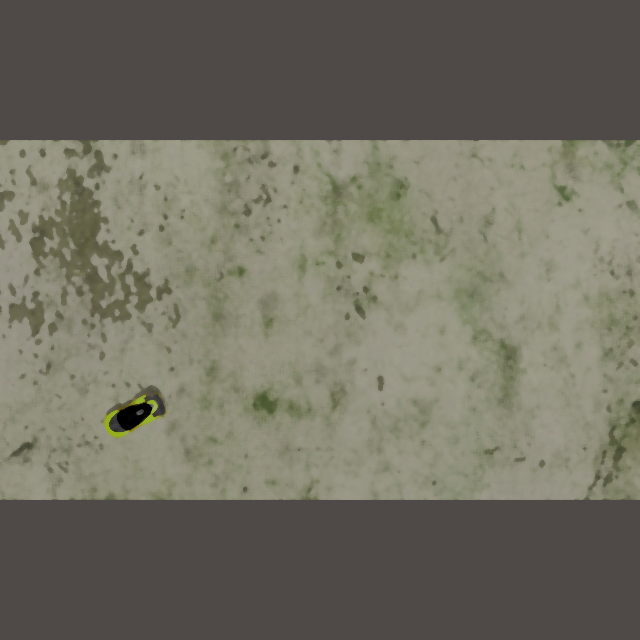car: (94, 386, 172, 446)
